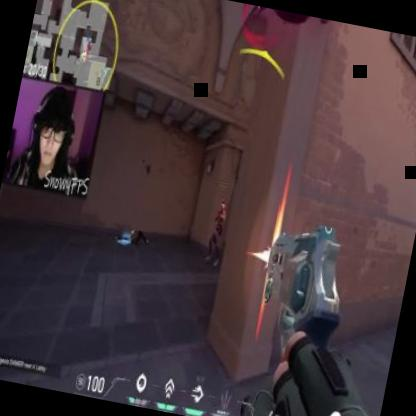enemy: (204, 198, 231, 268)
enemy_head: (219, 202, 226, 212)
